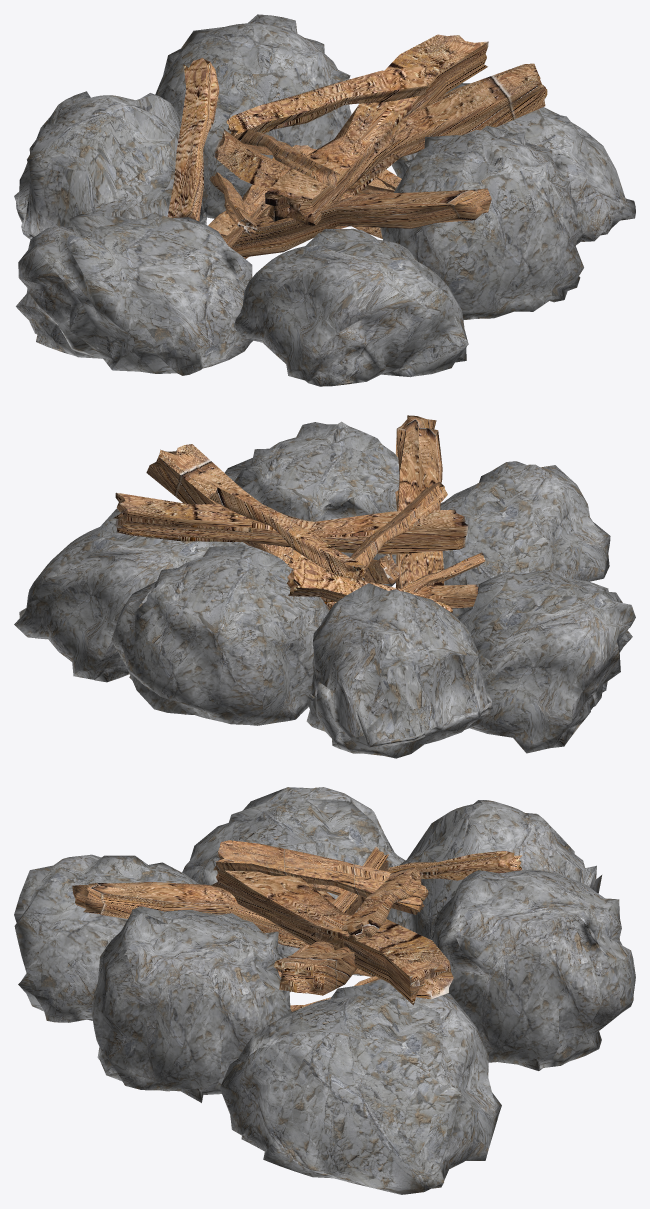
Rendered from model_rocks.fbx.
3 renders of one model, top to bottom at view 1: azimuth 30°, elevation 25°; view 2: azimuth 150°, elevation 25°; view 3: azimuth 270°, elevation 25°, orthographic. The views are drawn at different scales.
Parts seen in each view (by area): view 1: Rocks, madera; view 2: Rocks, madera; view 3: Rocks, madera.
Part boxes in pixels (bbox=[...]): Rocks: bbox=[14, 14, 635, 386]; madera: bbox=[167, 34, 547, 258]; Rocks: bbox=[14, 421, 635, 758]; madera: bbox=[114, 415, 485, 612]; Rocks: bbox=[14, 787, 635, 1194]; madera: bbox=[72, 840, 522, 1011].
Size of the model in its own units: 371 by 110 by 322.
